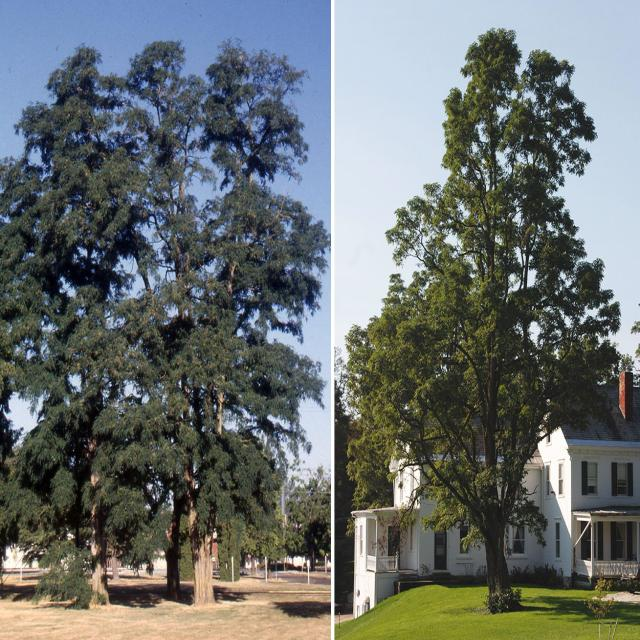Robinia pseudoacacia: (342, 28, 628, 610), (130, 36, 326, 600), (1, 42, 179, 607)
